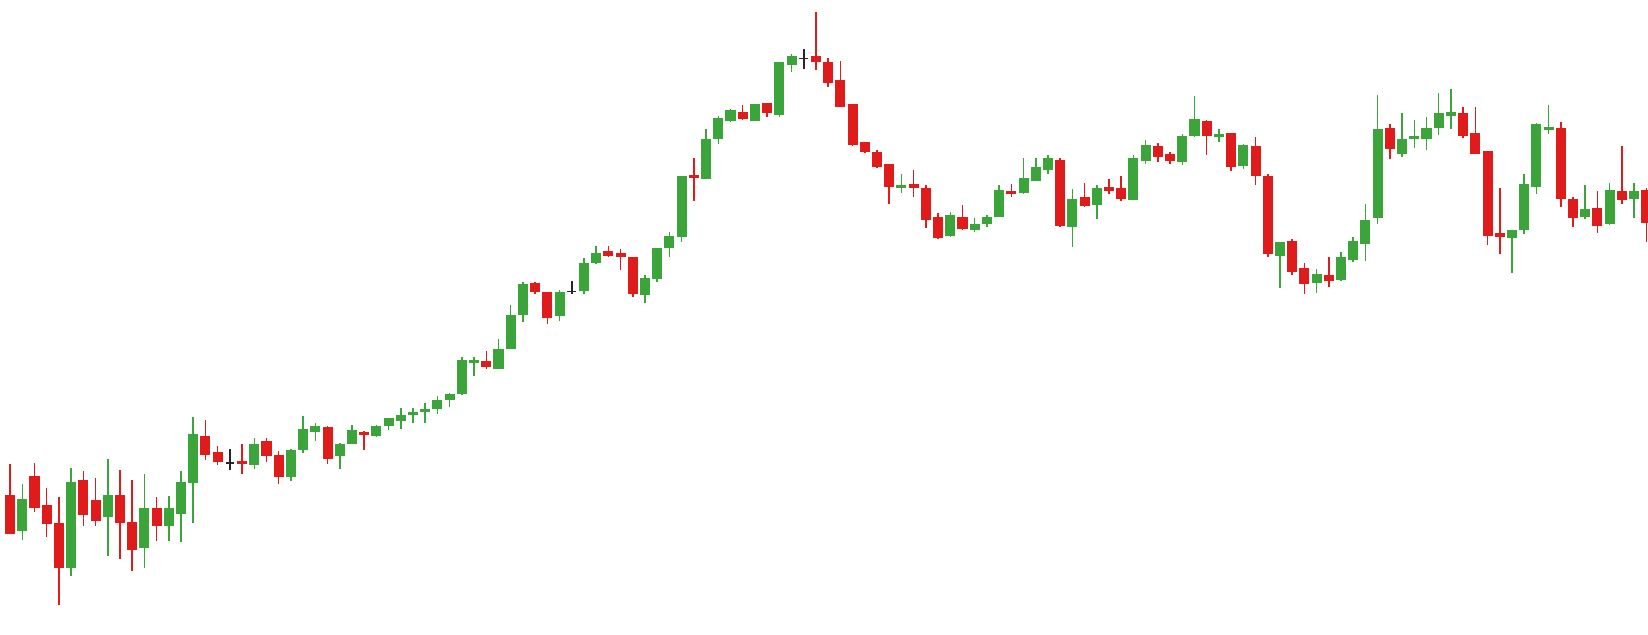sell: (1250, 96, 1393, 202)
